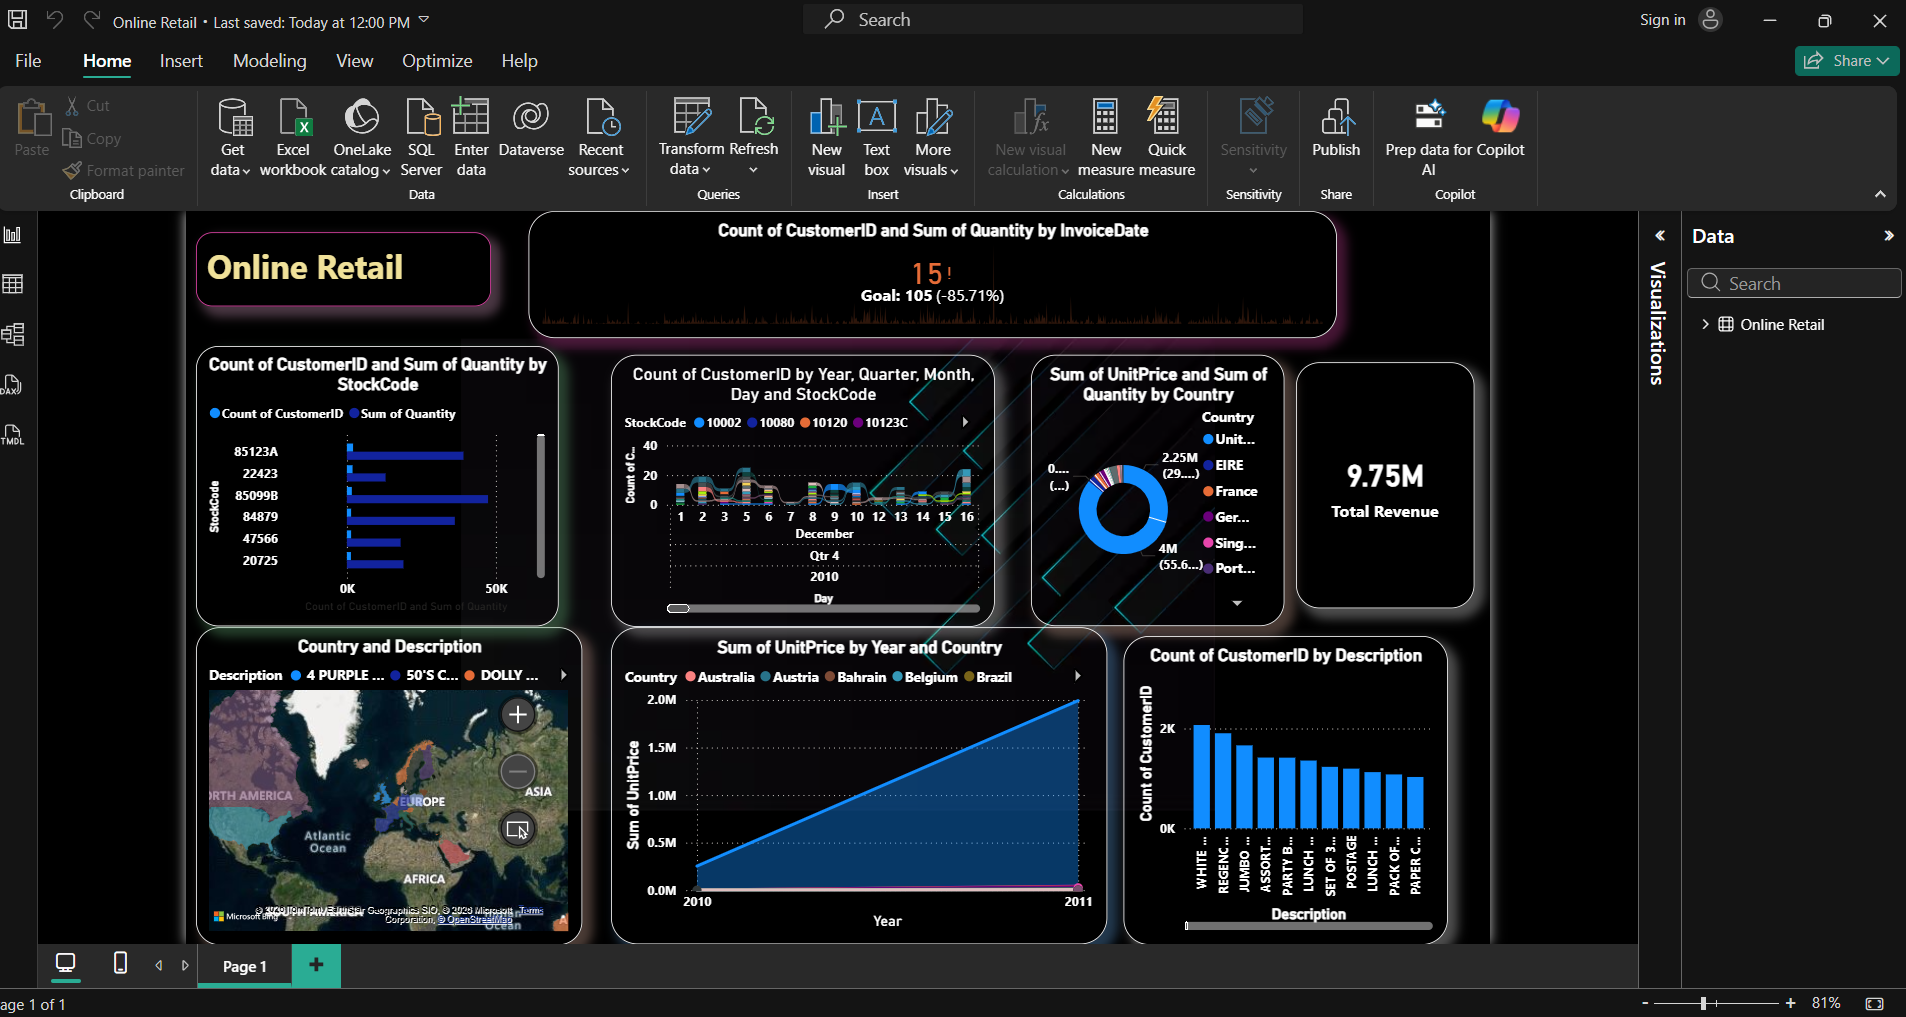

The dashboard page shown, as its layout file describes it:
{"tool":"powerbi","page":{"name":"Page 1","canvas":[1280,720],"ordinal":0},"visuals":[{"type":"textbox","box":[9.6,20.6,289.5,72.7],"z":0},{"type":"filledMap","fields":{"Category":["Online Retail.Country"],"Series":["Online Retail.Description"]},"box":[9.8,408.6,379.1,311.7],"z":1000},{"type":"clusteredBarChart","fields":{"Y":["CountNonNull(Online Retail.CustomerID)","Sum(Online Retail.Quantity)"],"Category":["Online Retail.StockCode"]},"box":[9.8,132.5,355.8,274.8],"z":2000},{"type":"kpi","fields":{"Indicator":["CountNonNull(Online Retail.CustomerID)"],"TrendLine":["Online Retail.InvoiceDate"],"Goal":["Sum(Online Retail.Quantity)"]},"box":[336.2,0,793.9,125.2],"z":3000},{"type":"ribbonChart","fields":{"Y":["CountNonNull(Online Retail.CustomerID)"],"Category":["Online Retail.InvoiceDate.Variation.Date Hierarchy.Year","Online Retail.InvoiceDate.Variation.Date Hierarchy.Quarter","Online Retail.InvoiceDate.Variation.Date Hierarchy.Month","Online Retail.InvoiceDate.Variation.Date Hierarchy.Day"],"Series":["Online Retail.StockCode"]},"box":[417.2,141.1,376.7,267.5],"z":4000},{"type":"donutChart","fields":{"Category":["Online Retail.Country"],"Y":["Sum(Online Retail.UnitPrice)","Sum(Online Retail.Quantity)"]},"box":[829.5,141.1,249.1,266.3],"z":5000},{"type":"areaChart","fields":{"Category":["Online Retail.InvoiceDate.Variation.Date Hierarchy.Year","Online Retail.InvoiceDate.Variation.Date Hierarchy.Quarter","Online Retail.InvoiceDate.Variation.Date Hierarchy.Month","Online Retail.InvoiceDate.Variation.Date Hierarchy.Day"],"Y":["Sum(Online Retail.UnitPrice)"],"Series":["Online Retail.Country"]},"box":[417,409,487,311],"z":6000},{"type":"lineStackedColumnComboChart","fields":{"Y":["CountNonNull(Online Retail.CustomerID)"],"Category":["Online Retail.Description"]},"box":[920,417,318,303],"z":7000},{"type":"card","fields":{"Values":["Online Retail.Total Revenue"]},"box":[1089.6,148.5,175.5,241.7],"z":8000}]}

Visuals, with their boxes on the page's 1280x720 design canvas (x1, y1, x2, y2). These are canvas units, not pixel positions in the 1906x1017 screenshot, which may show the page scaled, cropped or inside an application window:
textbox: <bbox>10, 21, 299, 93</bbox>
filledMap - Online Retail.Country x Online Retail.Description: <bbox>10, 409, 389, 720</bbox>
clusteredBarChart - CountNonNull(Online Retail.CustomerID) x Sum(Online Retail.Quantity): <bbox>10, 132, 366, 407</bbox>
kpi - CountNonNull(Online Retail.CustomerID) x Online Retail.InvoiceDate: <bbox>336, 0, 1130, 125</bbox>
ribbonChart - CountNonNull(Online Retail.CustomerID) x Online Retail.InvoiceDate.Variation.Date Hierarchy.Year: <bbox>417, 141, 794, 409</bbox>
donutChart - Online Retail.Country x Sum(Online Retail.UnitPrice): <bbox>830, 141, 1079, 407</bbox>
areaChart - Online Retail.InvoiceDate.Variation.Date Hierarchy.Year x Online Retail.InvoiceDate.Variation.Date Hierarchy.Quarter: <bbox>417, 409, 904, 720</bbox>
lineStackedColumnComboChart - CountNonNull(Online Retail.CustomerID) x Online Retail.Description: <bbox>920, 417, 1238, 720</bbox>
card - Online Retail.Total Revenue: <bbox>1090, 148, 1265, 390</bbox>
